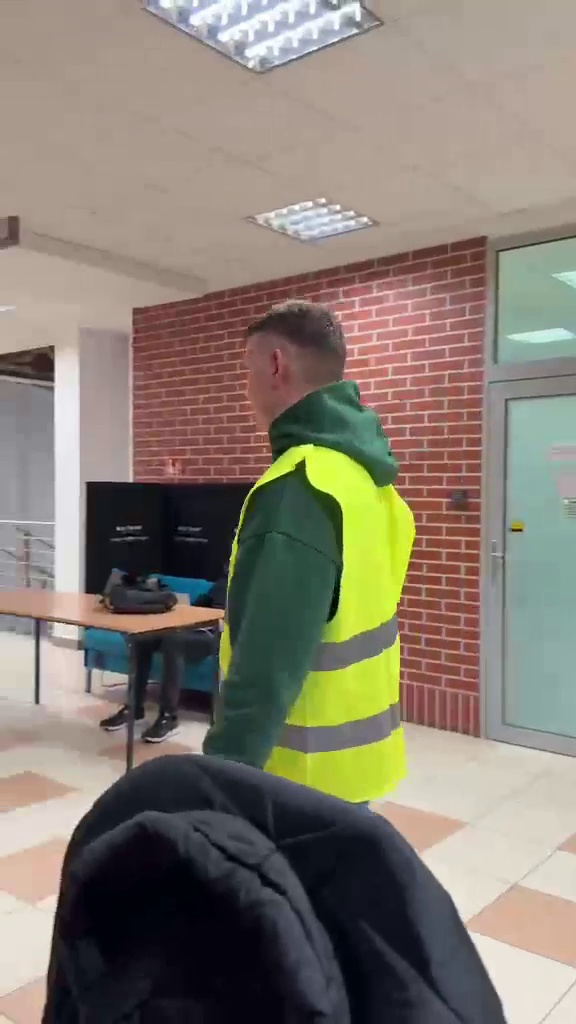vest: (216, 294, 408, 809)
